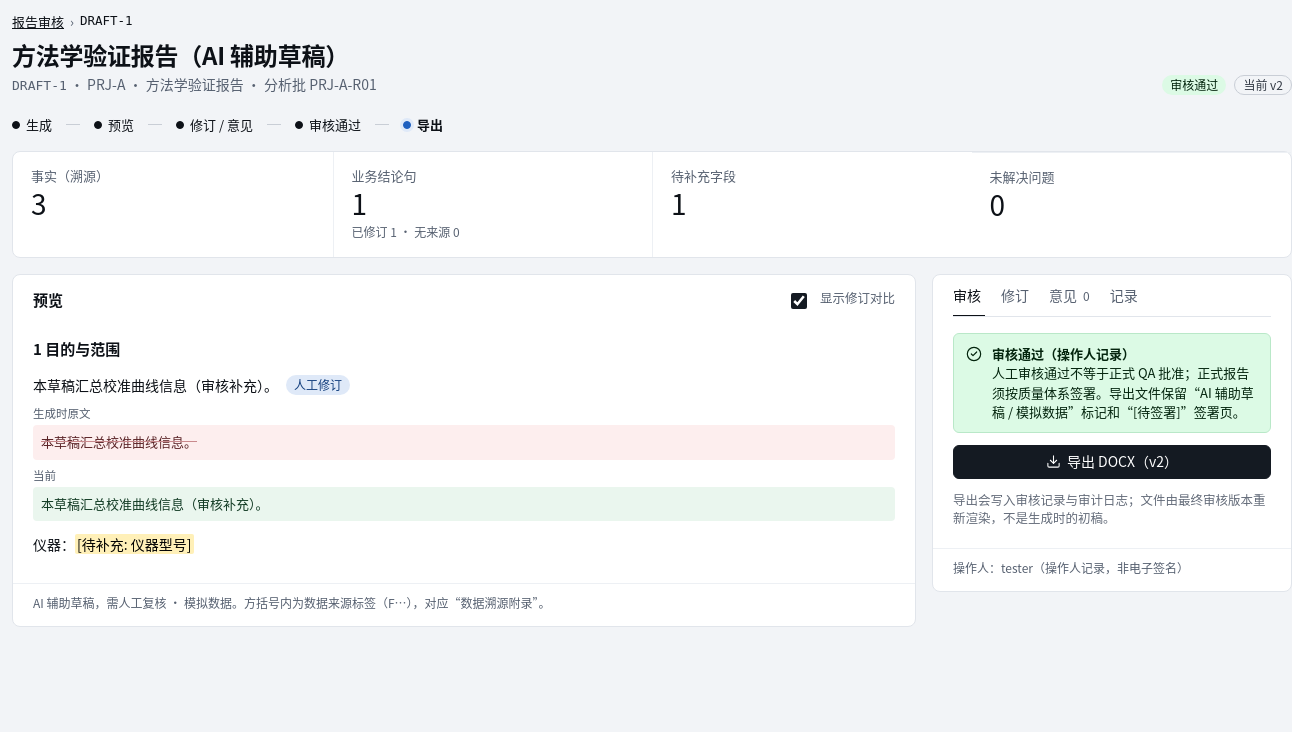
Test: 报告审核：导出门禁在界面上的表现（真正的门禁在后端） › 导出走带会话的下载接口；后端拒绝时给出错误提示，不保存文件
Click the button "导出 DOCX（v2）" at (1112, 462), box [953,445,1271,479]
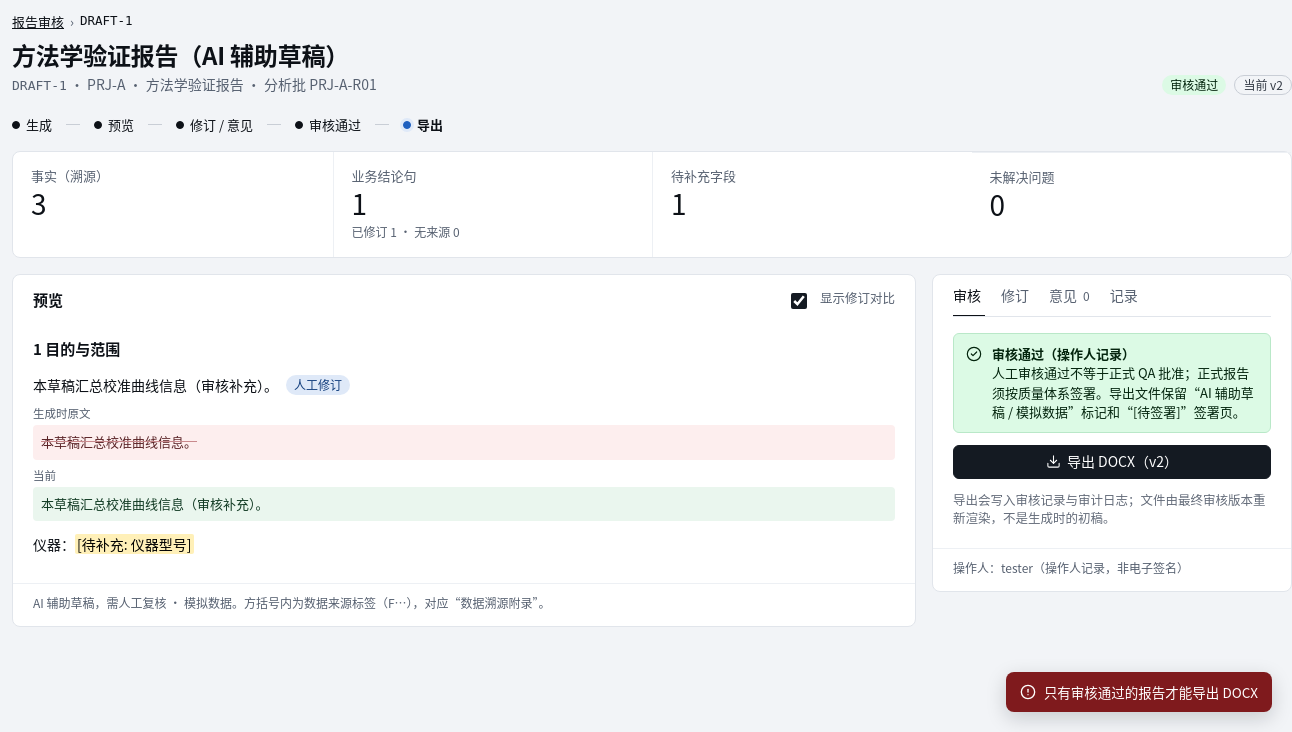
Now the text "只有审核通过的报告才能导出 DOCX" is shown, box [1044,682,1258,702]
